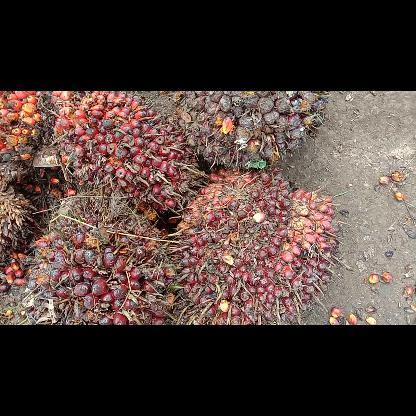Kurang masak: (175, 91, 329, 173)
TBS masak: (165, 166, 339, 324), (35, 91, 205, 219), (19, 190, 181, 324)
